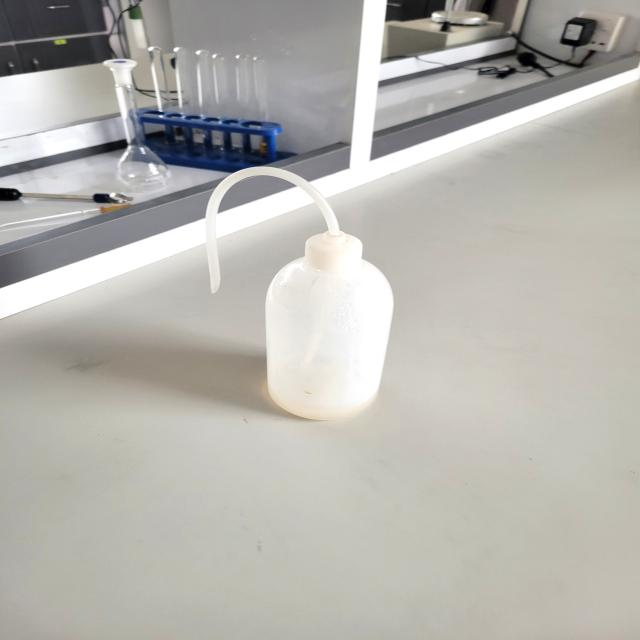Wash_Bottle: (176, 158, 405, 455)
